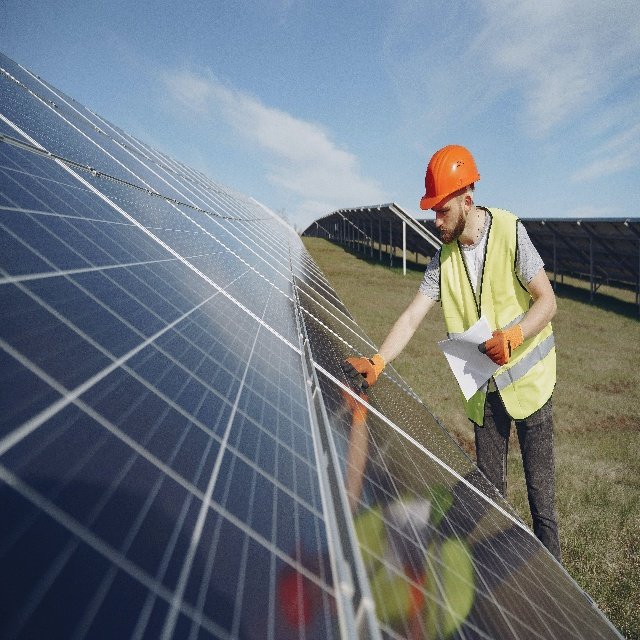Guantes: (478, 322, 524, 368), (340, 351, 387, 391)
